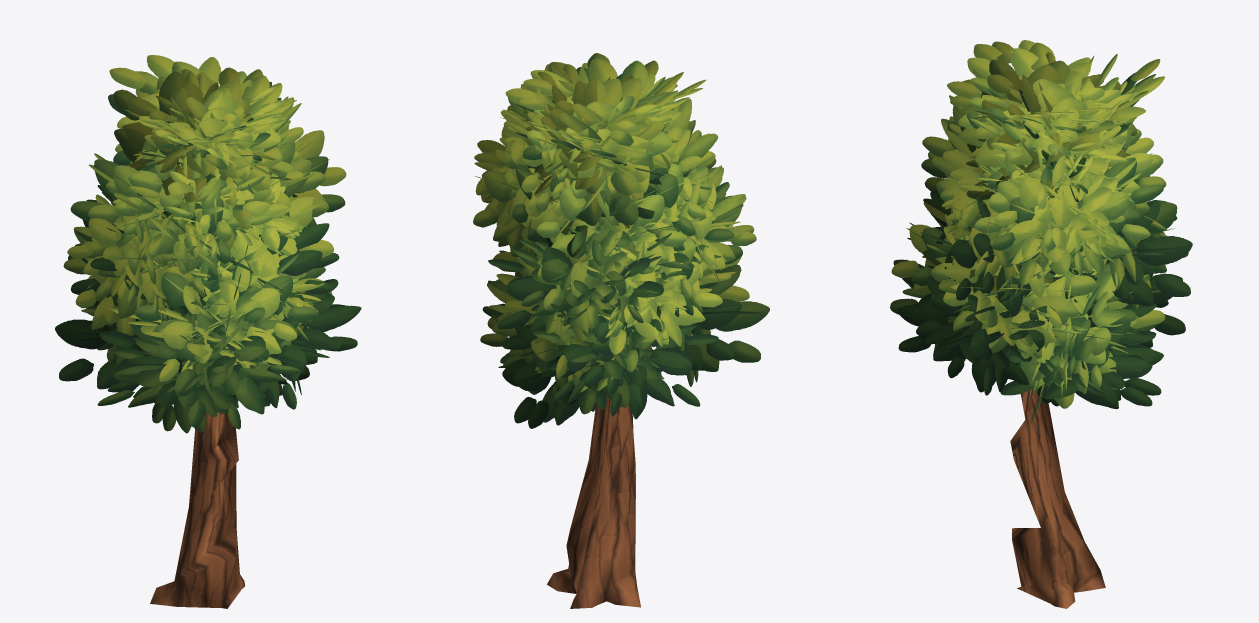
Rendered from tree_round_a_far.glb.
3 views of the same model, side by side, from view 1: azimuth 30°, elevation 25°; view 2: azimuth 150°, elevation 25°; view 3: azimuth 270°, elevation 25° (orthographic).
Parts seen in each view (by area): view 1: Canopy, tree_round_a_far; view 2: Canopy, tree_round_a_far; view 3: Canopy, tree_round_a_far.
Part boxes in pixels (<box>): Canopy: <box>55,55,361,433</box>; tree_round_a_far: <box>150,385,244,608</box>; Canopy: <box>473,53,769,428</box>; tree_round_a_far: <box>547,395,640,608</box>; Canopy: <box>890,40,1192,423</box>; tree_round_a_far: <box>1010,389,1105,608</box>.
Size of the model in its own units: 1.5 by 2.3 by 1.58.
Materials: 2 (2 with a texture image).
